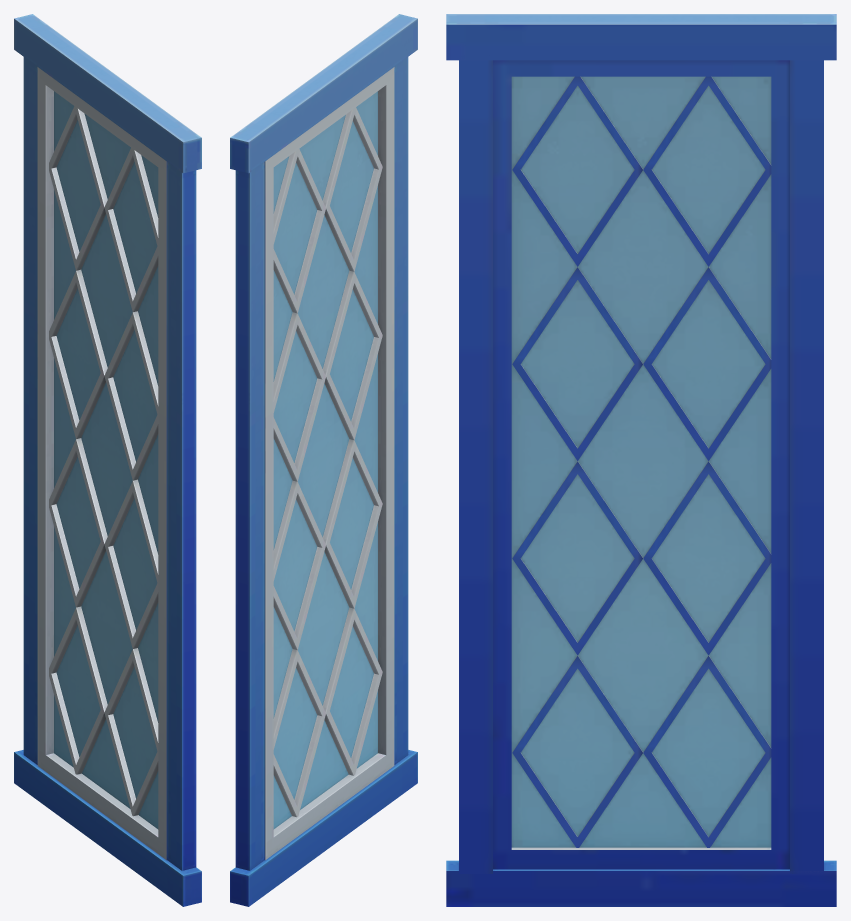
File: my_poolparty_01_b_window_01.glb
3 views of the same model, side by side, from view 1: azimuth 30°, elevation 25°; view 2: azimuth 150°, elevation 25°; view 3: azimuth 270°, elevation 25° (orthographic). The views are drawn at different scales.
Visible parts, largest first — view 1: my_poolparty_01_b_window_01; view 2: my_poolparty_01_b_window_01; view 3: my_poolparty_01_b_window_01.
Boxes of the visible parts, box(x1,y1,x2,y2) form: my_poolparty_01_b_window_01: box(14, 14, 201, 906); my_poolparty_01_b_window_01: box(230, 14, 417, 906); my_poolparty_01_b_window_01: box(446, 14, 836, 906).
Bounding box in the file's own units: 0.000657 × 0.0256 × 0.0103.
1 material, 1 textured.
